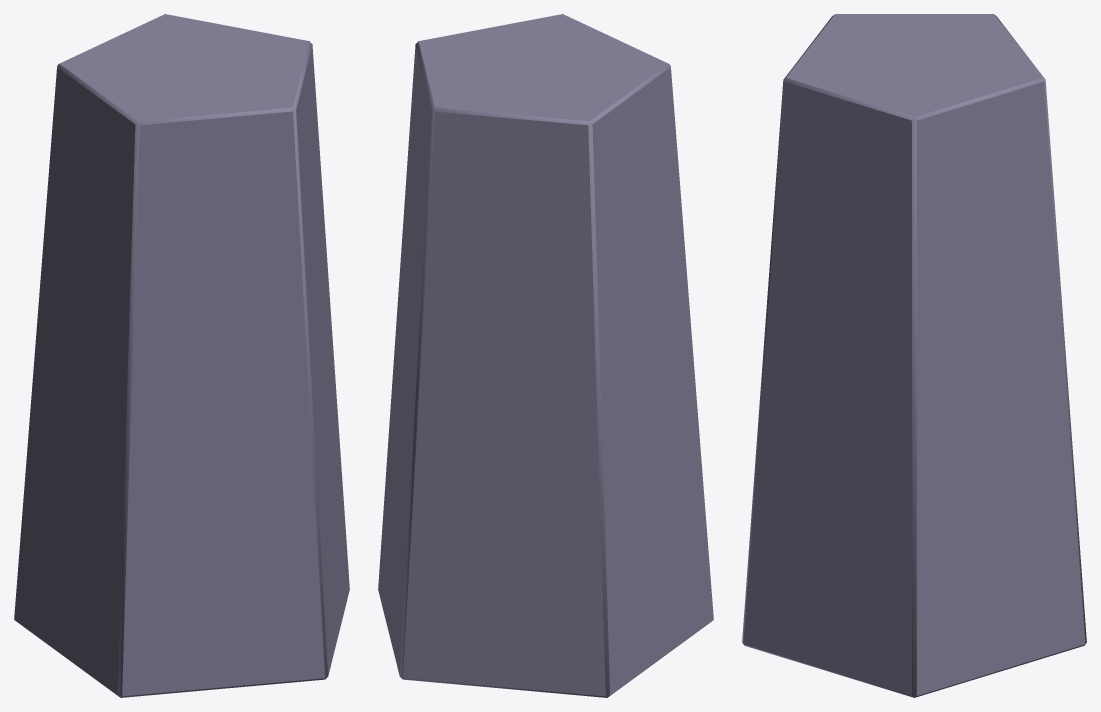
Rendered from stone_marker_large_01.glb.
3 views of the same model, side by side, from view 1: azimuth 30°, elevation 25°; view 2: azimuth 150°, elevation 25°; view 3: azimuth 270°, elevation 25° (orthographic).
Visible parts, largest first — view 1: stone_marker_large_01; view 2: stone_marker_large_01; view 3: stone_marker_large_01.
Part boxes in pixels (bbox=[...]): stone_marker_large_01: bbox=[14, 14, 349, 697]; stone_marker_large_01: bbox=[378, 14, 713, 697]; stone_marker_large_01: bbox=[742, 14, 1086, 697].
Bounding box in the file's own units: 0.4494 × 0.85 × 0.4725.
